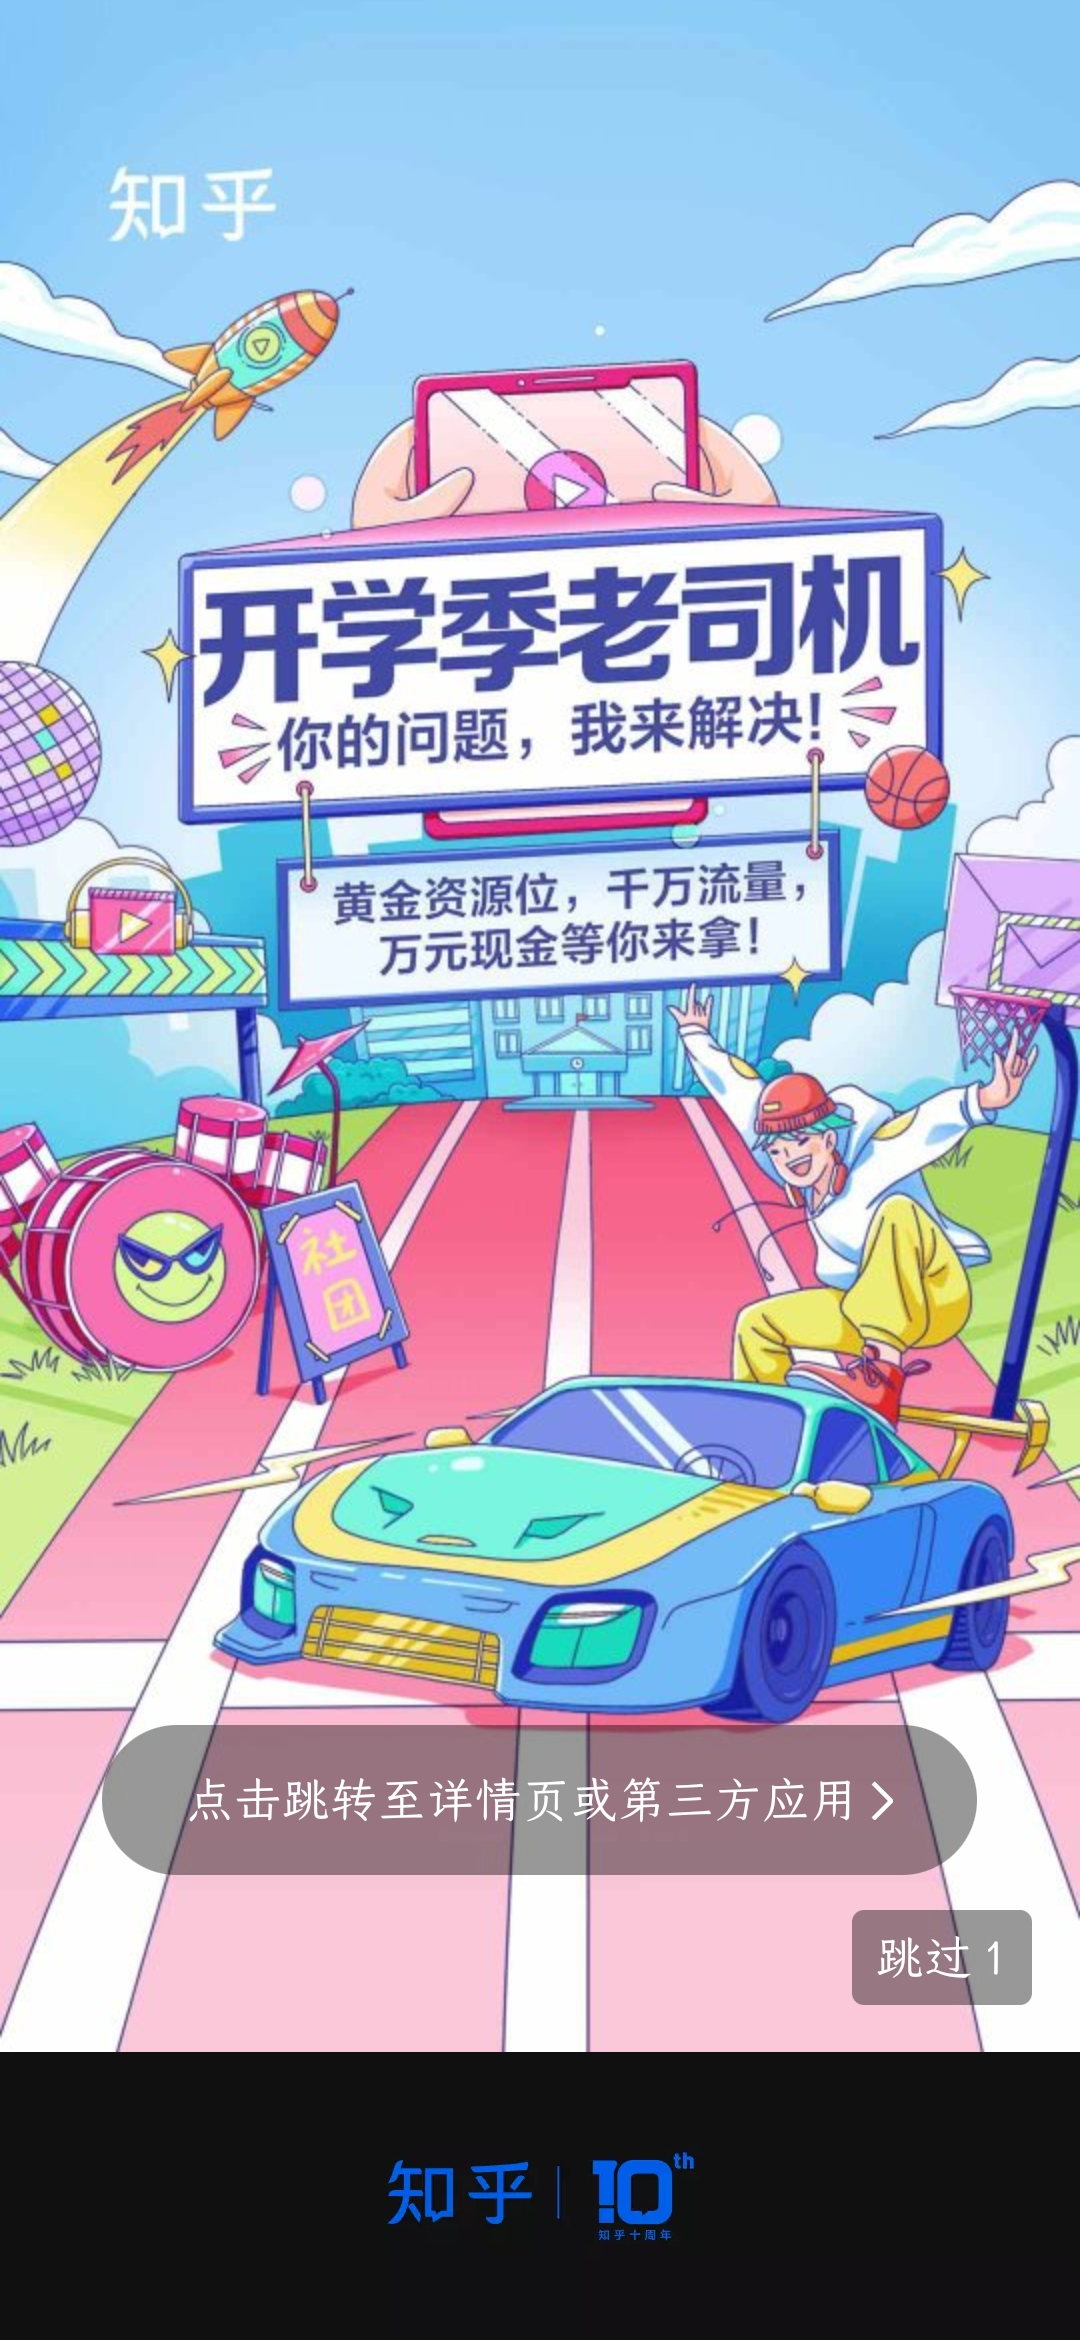skip: (855, 1915, 1020, 2003)
